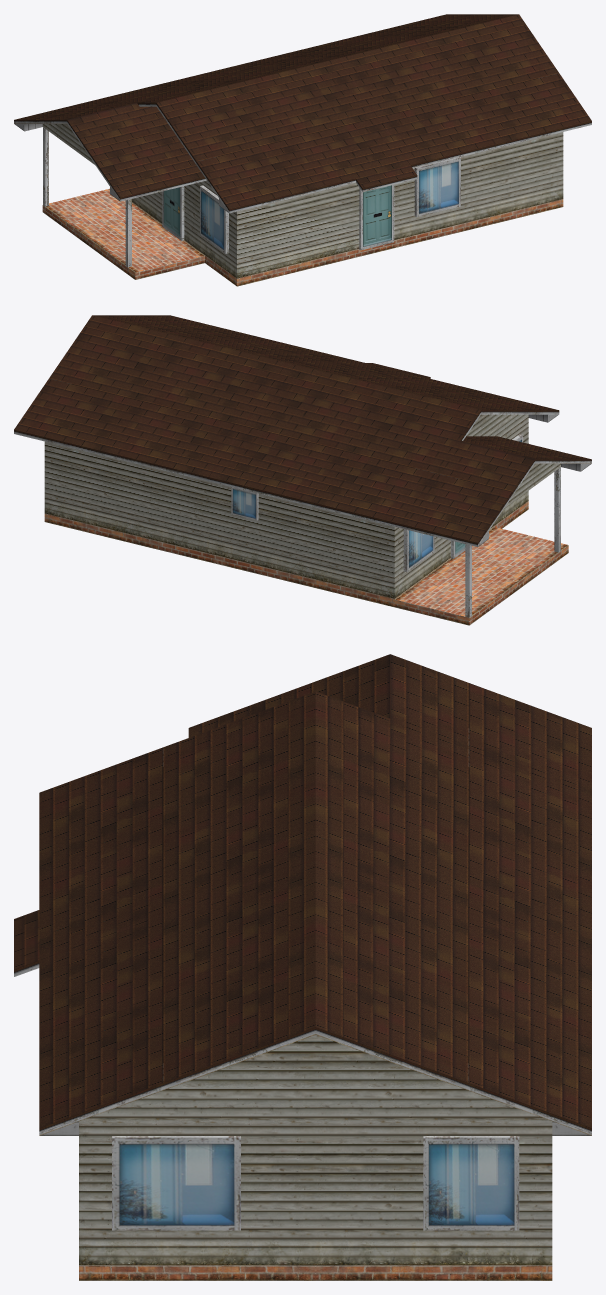
File: houseFLOD.FBX
The picture shows the model from 3 angles, top to bottom: view 1: azimuth 30°, elevation 25°; view 2: azimuth 150°, elevation 25°; view 3: azimuth 270°, elevation 25°; orthographic projection. The views are drawn at different scales.
Visible parts, largest first — view 1: houseGLOD; view 2: houseGLOD; view 3: houseGLOD.
Part boxes in pixels (left/top/right/bottom): houseGLOD: left=14, top=14, right=591, bottom=286; houseGLOD: left=14, top=315, right=591, bottom=625; houseGLOD: left=14, top=654, right=591, bottom=1280.
Bounding box in the file's own units: 387 × 122 × 236.
